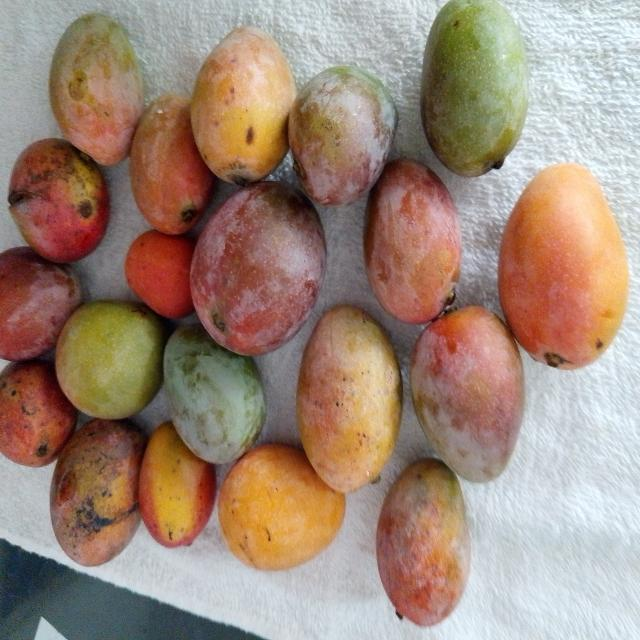mango: (499, 164, 628, 368), (191, 182, 326, 355), (411, 307, 524, 481), (297, 305, 402, 492), (421, 0, 528, 176), (191, 27, 295, 185), (364, 158, 461, 323), (218, 444, 345, 570), (376, 459, 470, 625), (289, 66, 397, 205), (50, 13, 143, 165), (164, 325, 266, 463), (50, 419, 145, 566), (56, 300, 165, 419), (8, 139, 109, 262), (130, 94, 215, 234), (139, 421, 215, 547), (0, 247, 81, 360), (120, 220, 198, 326), (0, 361, 77, 467)
